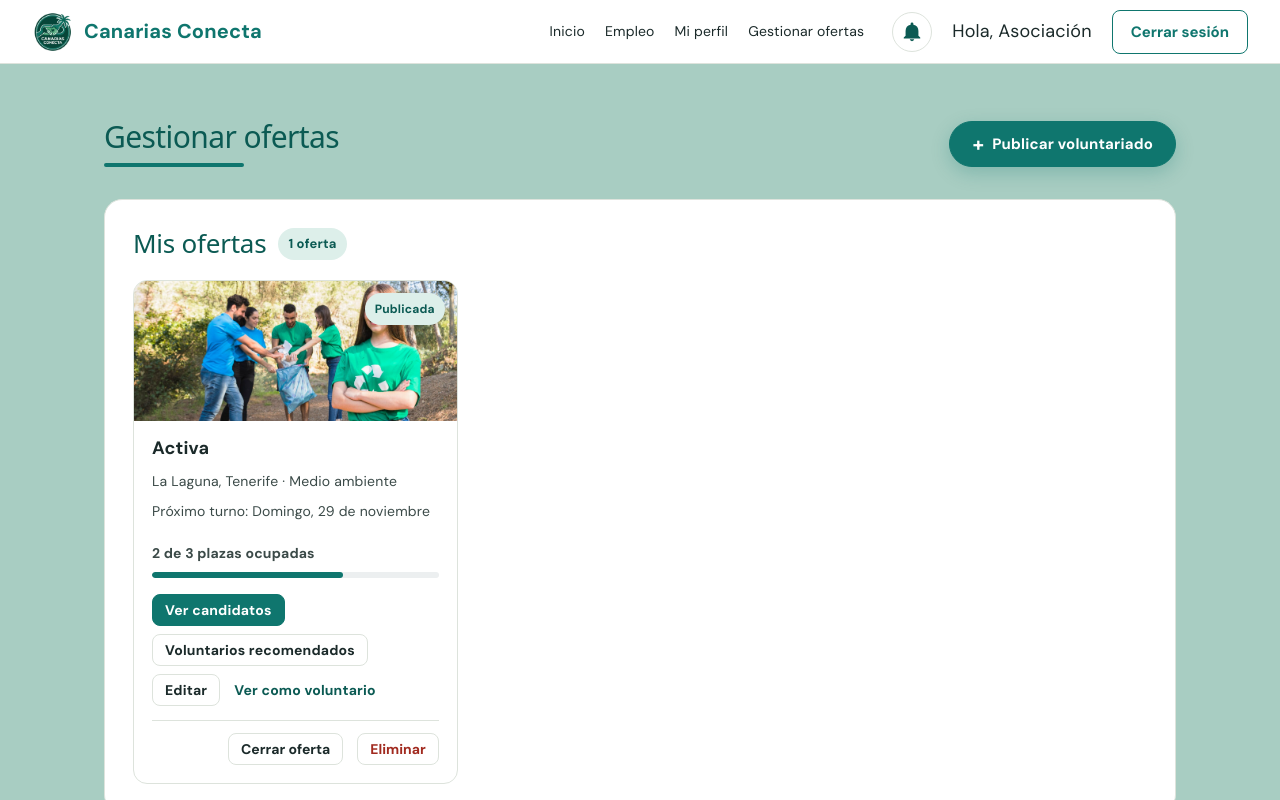
Test: GestionarOfertas › cierra una oferta tras confirmarlo y recarga el listado
Click the button "Cerrar oferta" at x=286, y=749, box x1=228 y1=733 x2=343 y2=765
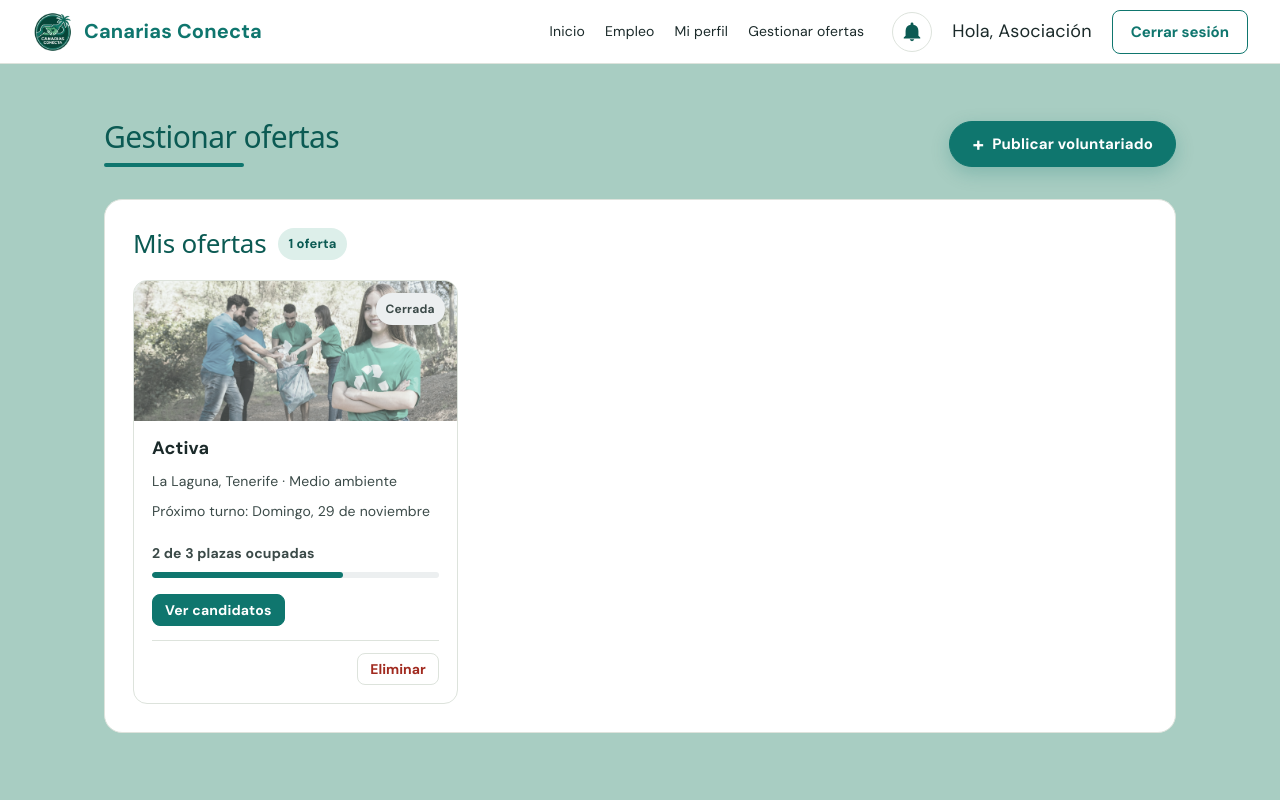
Now the button "Cerrar oferta" is gone
